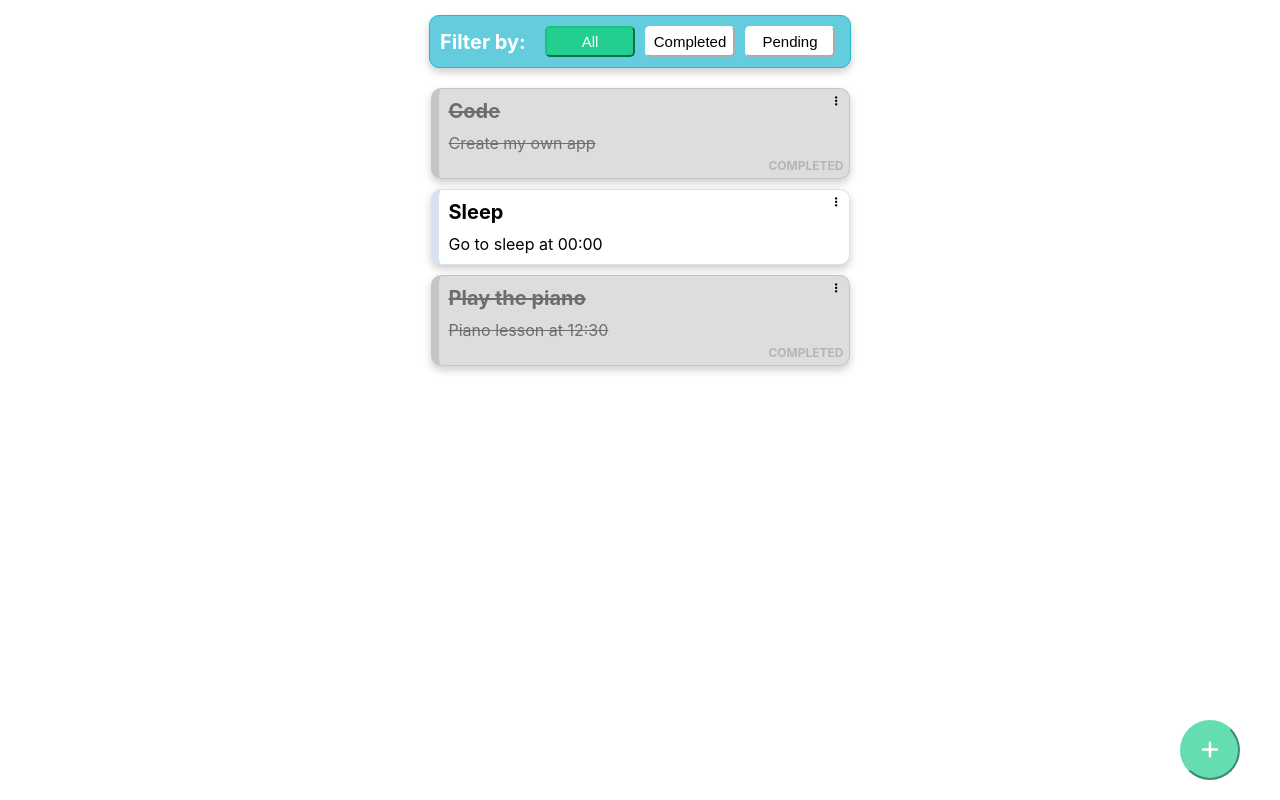
Test: Tasklist app render › render full app
The width and height of the screenshot is (1280, 800).
Expected: the number of elements with class "list" is 1, left=430, top=88, right=850, bottom=366
Expected: the number of elements with class "filters" is 1, left=429, top=15, right=851, bottom=68
Click the button with class "add-button".
click(1210, 750)  # box left=1180, top=720, right=1240, bottom=780
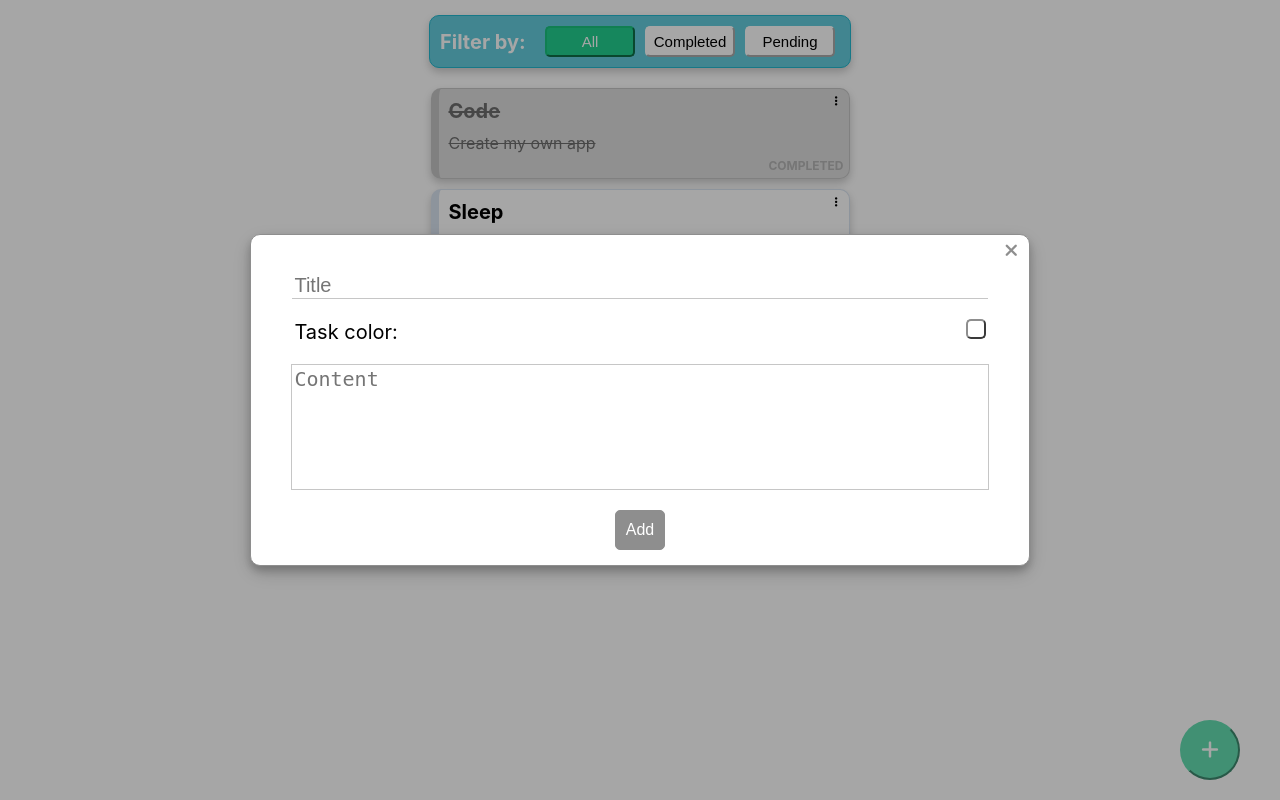
Now the number of elements with class "modal" is 1, box left=250, top=234, right=1030, bottom=566
